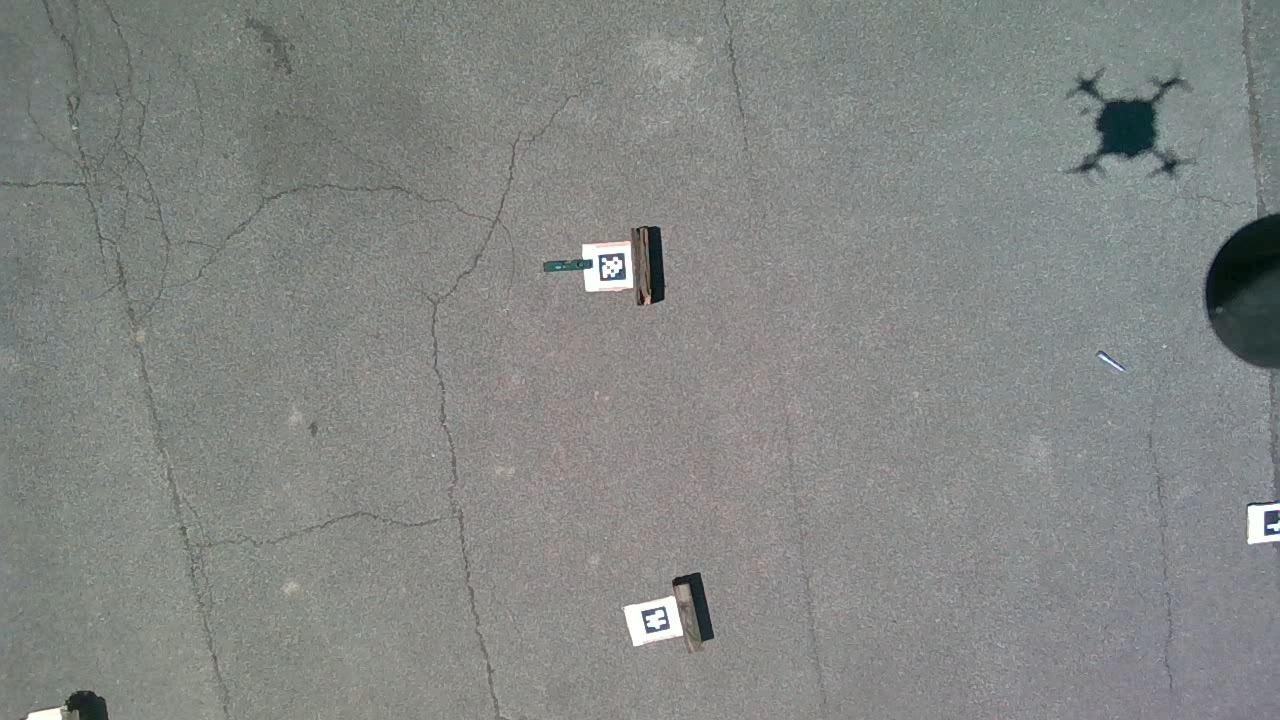probes: (1096, 351, 1129, 374)
